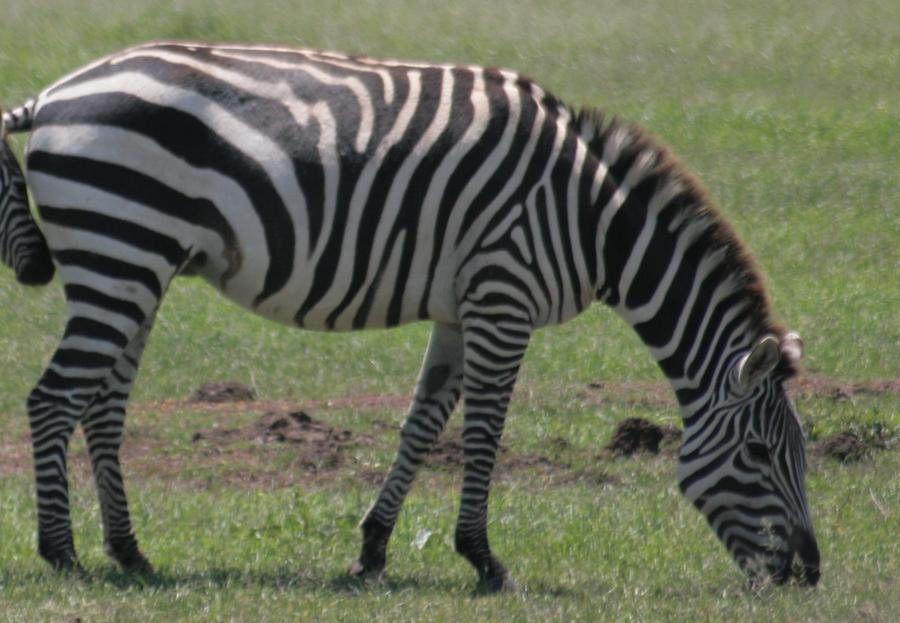zebra_plains: (21, 31, 583, 332)
